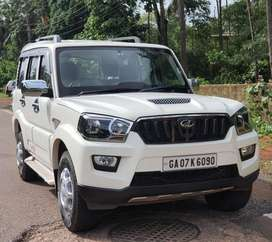GA07K6090: (163, 153, 217, 171)
